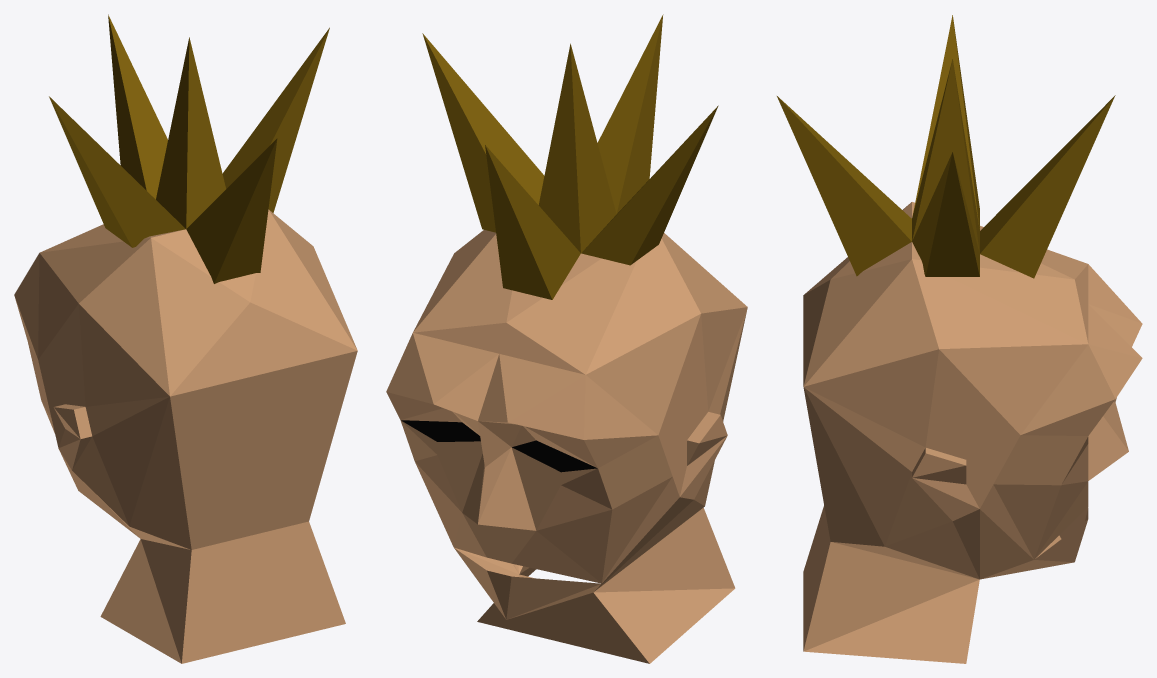
File: npc_world_dwarf_youngster_0.obj
The picture shows the model from 3 angles, left to right: view 1: azimuth 30°, elevation 25°; view 2: azimuth 150°, elevation 25°; view 3: azimuth 270°, elevation 25°; orthographic projection. The views are drawn at different scales.
Size of the model in its own units: 0.1875 by 0.3594 by 0.2109.
